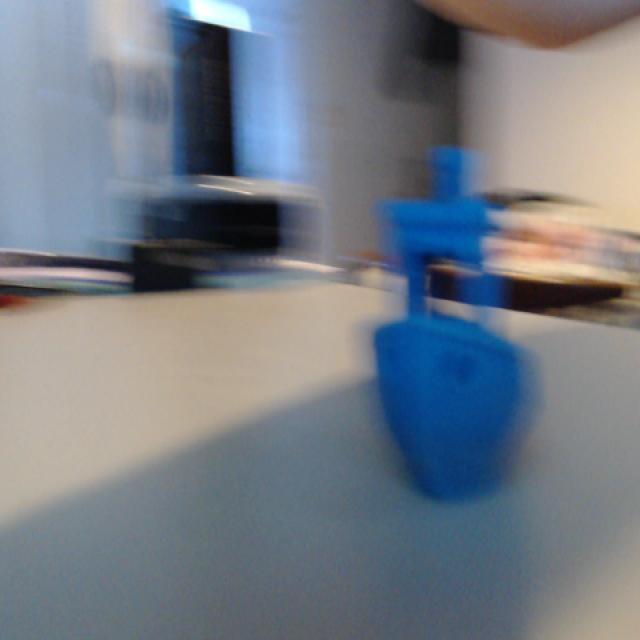benchy: (369, 140, 532, 503)
